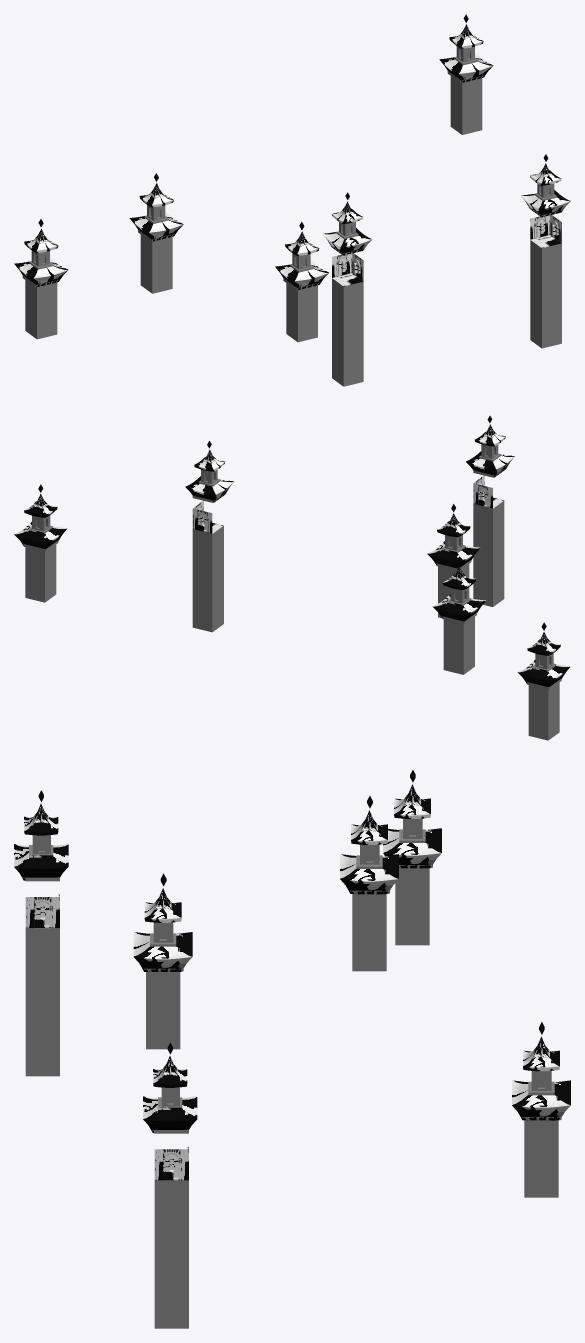
The picture shows the model from 3 angles, top to bottom: view 1: azimuth 30°, elevation 25°; view 2: azimuth 150°, elevation 25°; view 3: azimuth 270°, elevation 25°; orthographic projection. The views are drawn at different scales.
Visible parts, largest first — view 1: Rooftops_Wall_Big (4) (×6), Rooftops_Wall_Big (5) (×4), Rooftops_Wall_Big (3) (×2); view 2: Rooftops_Wall_Big (4) (×6), Rooftops_Wall_Big (5) (×4), Rooftops_Wall_Big (3) (×2); view 3: Rooftops_Wall_Big (4) (×6), Rooftops_Wall_Big (5) (×4), Rooftops_Wall_Big (3) (×2).
Part boxes in pixels (x1,y1,x2,y2): Rooftops_Wall_Big (4) (×6): (25, 76, 561, 386); Rooftops_Wall_Big (5) (×4): (14, 14, 493, 290); Rooftops_Wall_Big (3) (×2): (322, 154, 570, 255); Rooftops_Wall_Big (4) (×6): (25, 497, 559, 740); Rooftops_Wall_Big (5) (×4): (14, 484, 570, 689); Rooftops_Wall_Big (3) (×2): (185, 416, 514, 502); Rooftops_Wall_Big (4) (×6): (25, 868, 558, 1328); Rooftops_Wall_Big (5) (×4): (133, 770, 570, 1120); Rooftops_Wall_Big (3) (×2): (14, 790, 197, 1133).
Bounding box in the file's own units: 49.94 × 22.87 × 32.39.
